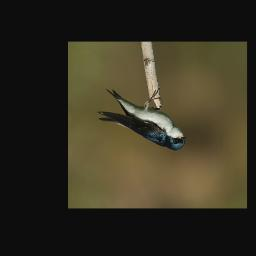Swallow: (96, 85, 188, 151)
